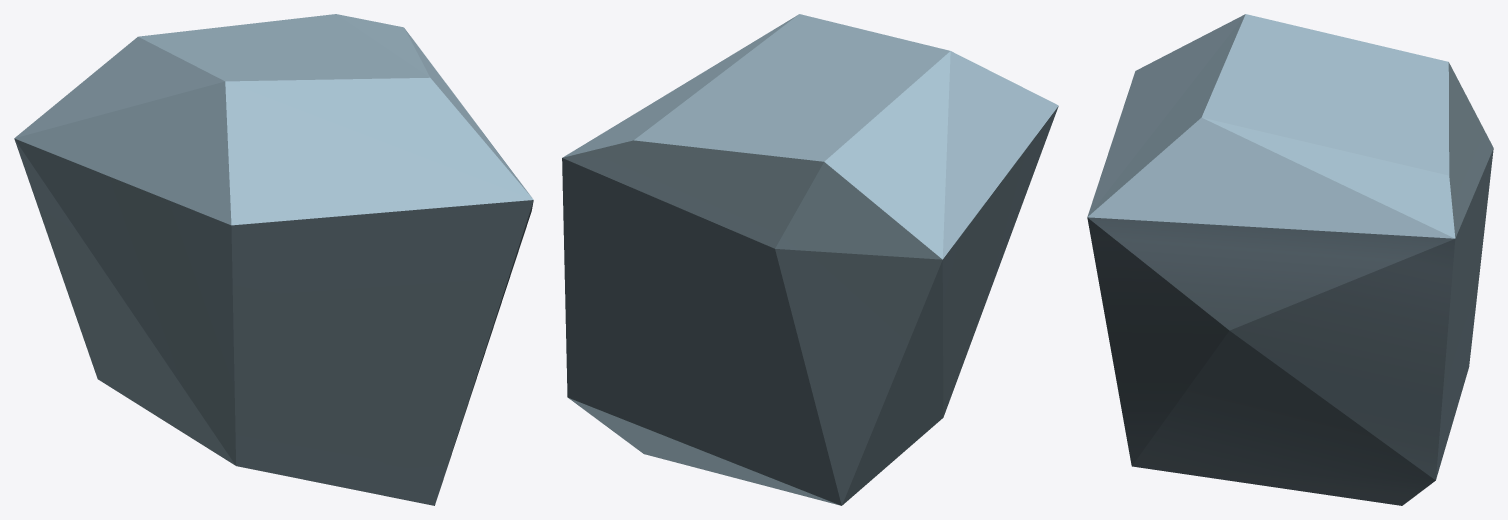
The model's file is Small stone.fbx.
The picture shows the model from 3 angles, left to right: view 1: azimuth 30°, elevation 25°; view 2: azimuth 150°, elevation 25°; view 3: azimuth 270°, elevation 25°; orthographic projection. The views are drawn at different scales.
Parts seen in each view (by area): view 1: Cube.002; view 2: Cube.002; view 3: Cube.002.
Boxes of the visible parts, x1,y1,x2,y2 form: Cube.002: (14,14,533,505); Cube.002: (562,14,1058,505); Cube.002: (1087,14,1493,505).
Bounding box in the file's own units: 24.09 × 23.97 × 22.91.
